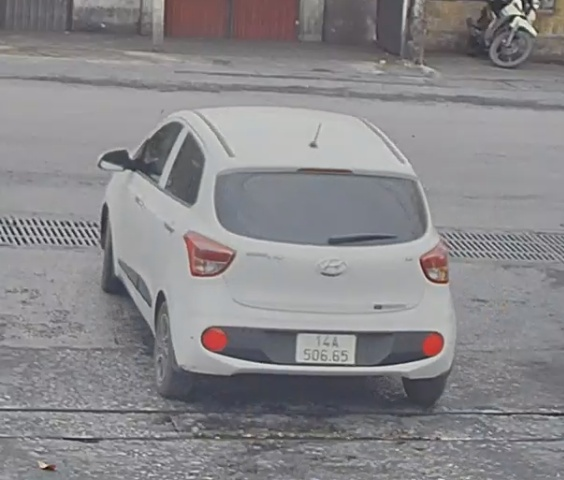vehicle plate: (294, 328, 359, 367)
